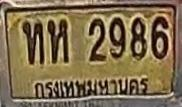2: (88, 18, 105, 60)
6: (151, 15, 167, 58)
8: (130, 16, 146, 58)
9: (109, 16, 125, 58)
A23: (22, 20, 45, 66)
A41: (47, 19, 70, 63)
BKK: (32, 76, 150, 98)
